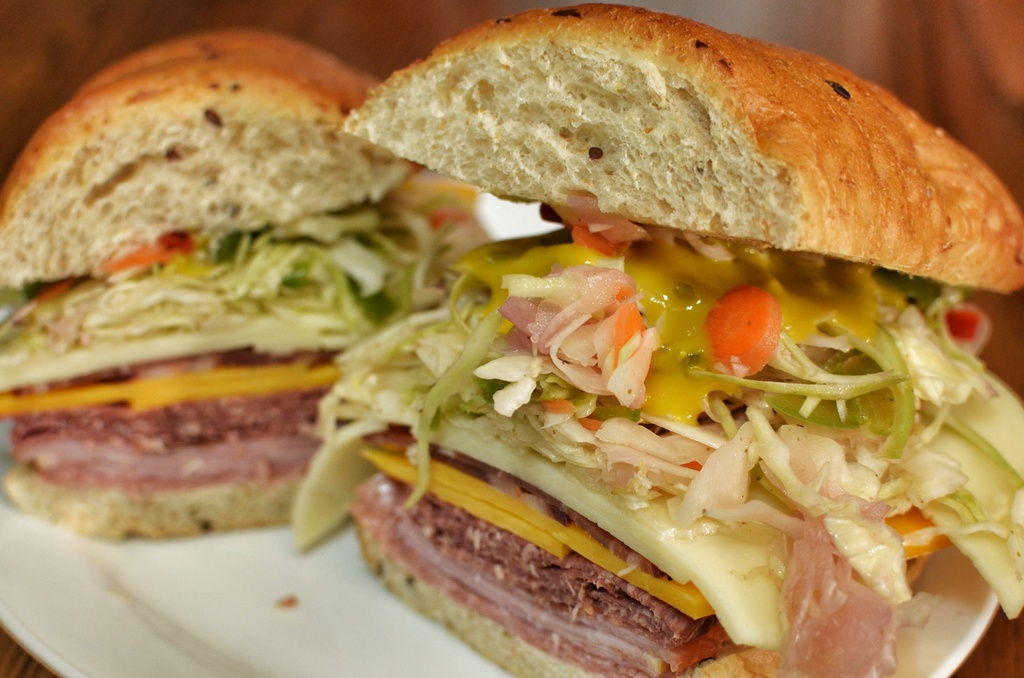Hamburger: (288, 0, 1023, 677), (0, 35, 498, 537)
